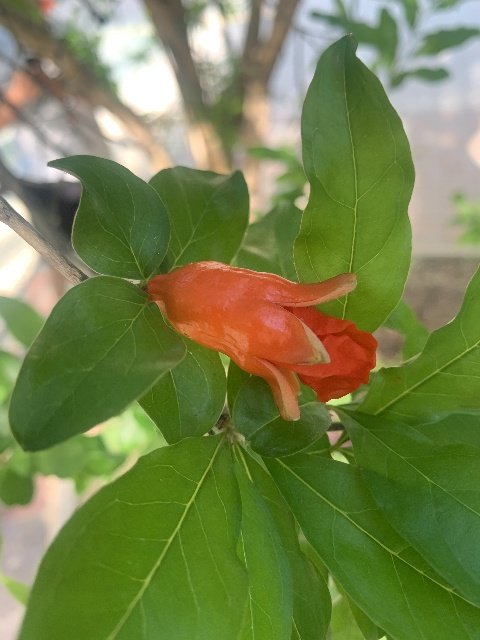flower: (148, 260, 377, 421)
